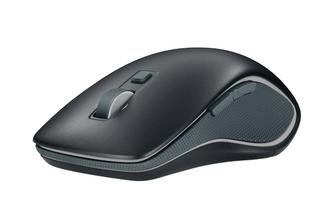Mouse: (28, 44, 305, 184)
